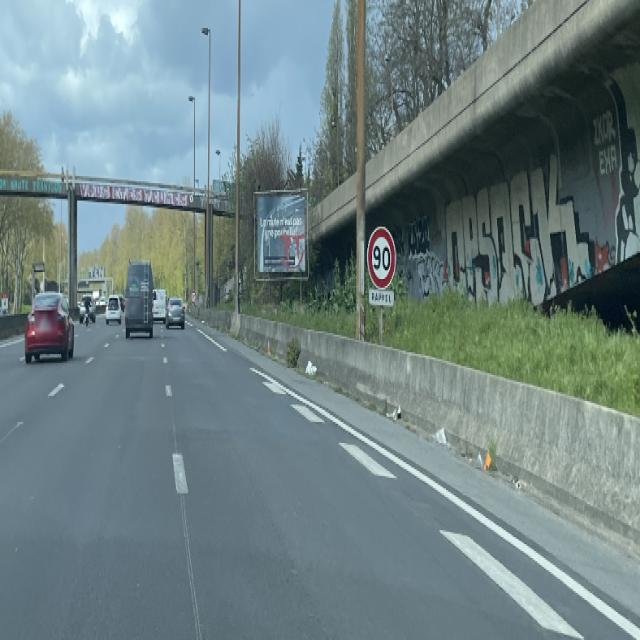speed_90: (366, 226, 396, 290)
